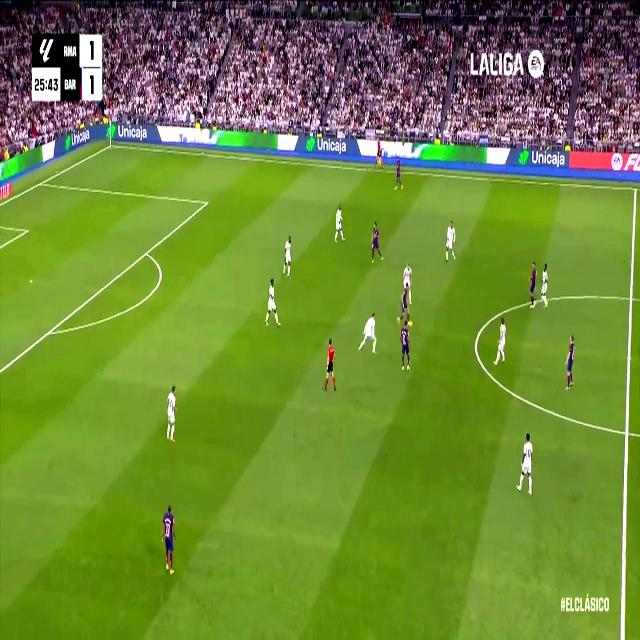bigarea_top_inner: (202, 194, 210, 210)
bigarea_top_outter: (38, 175, 46, 188)
bottom_arc_area_intersection: (45, 322, 54, 340)
corner: (106, 140, 115, 150)
halfcircle_bottom: (621, 419, 633, 446)
halfcircle_top: (626, 286, 637, 310)
midline_top_intersection: (632, 183, 640, 197)
smallarea_top_inner: (22, 223, 30, 237)
top_arc_area_intersection: (142, 244, 150, 260)
